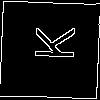K: (24, 25, 76, 61)
